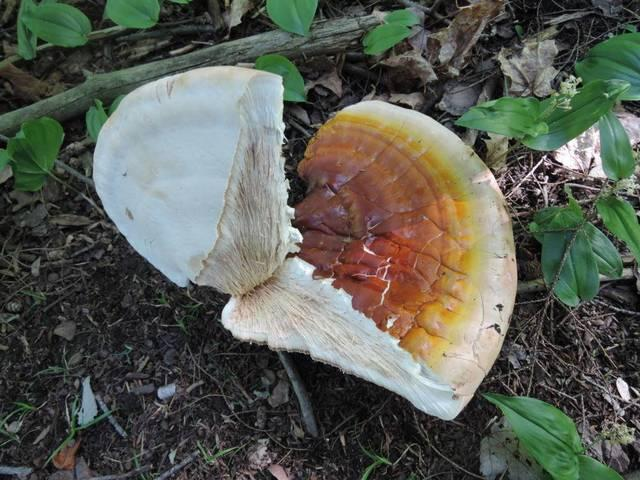Non-edible Mushroom: (90, 63, 519, 435)
